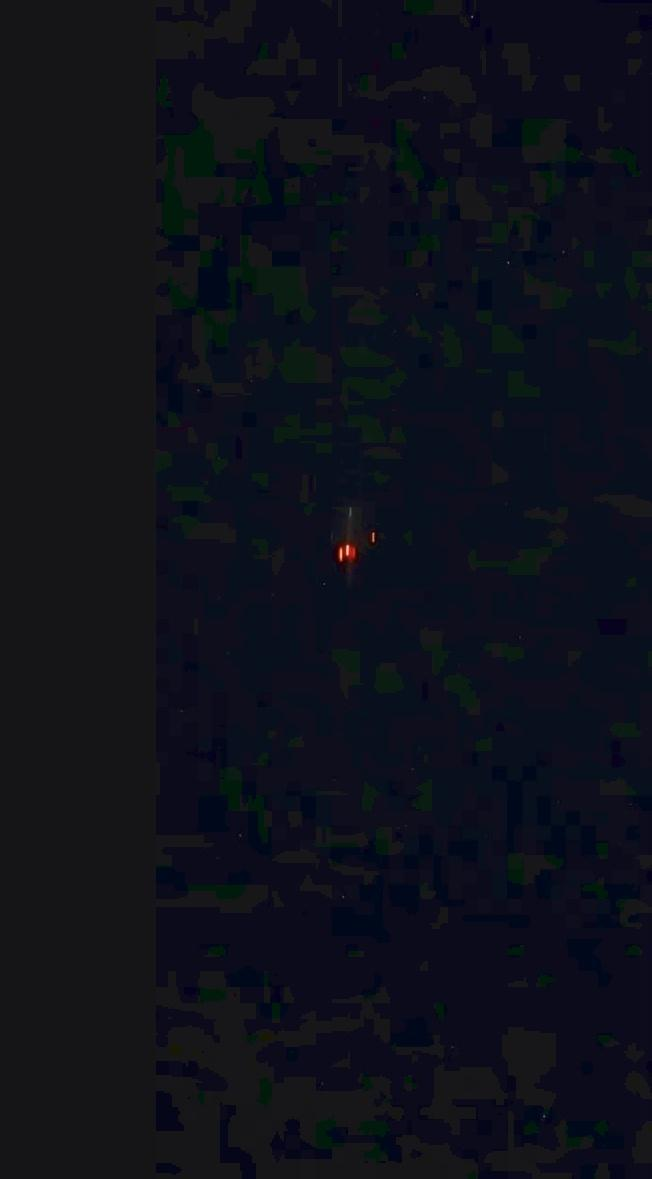Plane: (313, 489, 393, 604)
